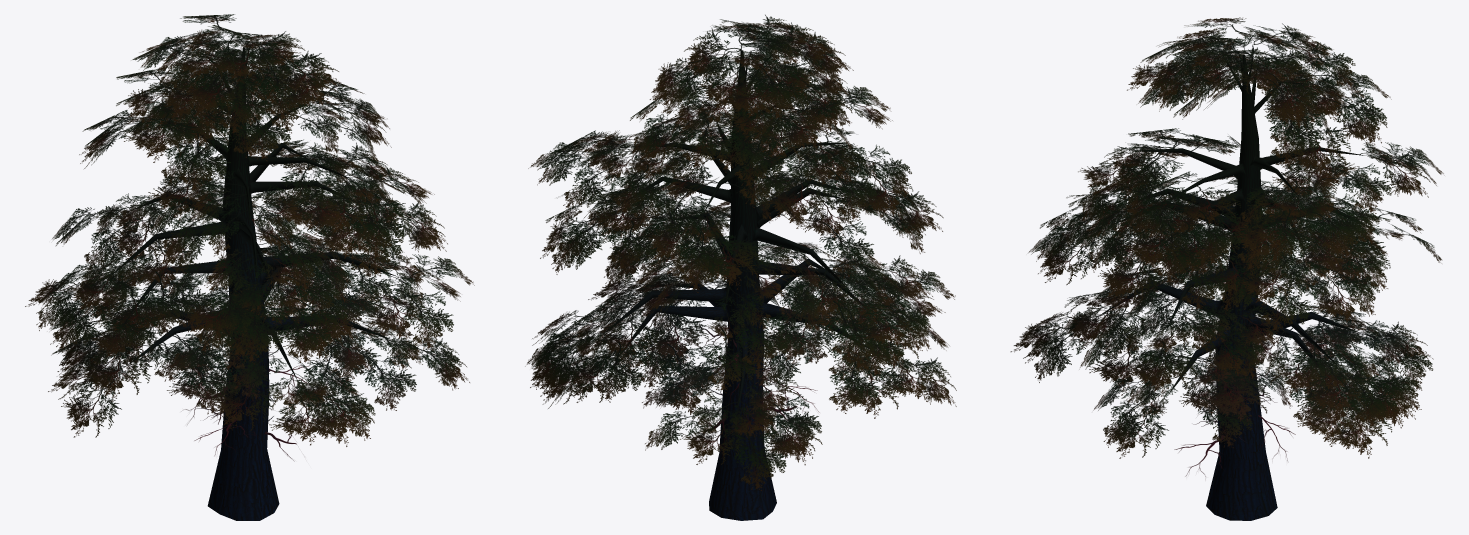
File: Oak_A.glb
The picture shows the model from 3 angles, left to right: view 1: azimuth 30°, elevation 25°; view 2: azimuth 150°, elevation 25°; view 3: azimuth 270°, elevation 25°; orthographic projection.
Visible parts, largest first — view 1: OakTreeA_LOD0; view 2: OakTreeA_LOD0; view 3: OakTreeA_LOD0.
Part boxes in pixels (x1,y1,x2,y2): OakTreeA_LOD0: [25, 14, 474, 520]; OakTreeA_LOD0: [525, 14, 956, 520]; OakTreeA_LOD0: [1010, 17, 1443, 520].
Size of what is drawn, in the model's own units: 18.15 by 20.9 by 18.47.
Materials: 2 (2 with a texture image).
